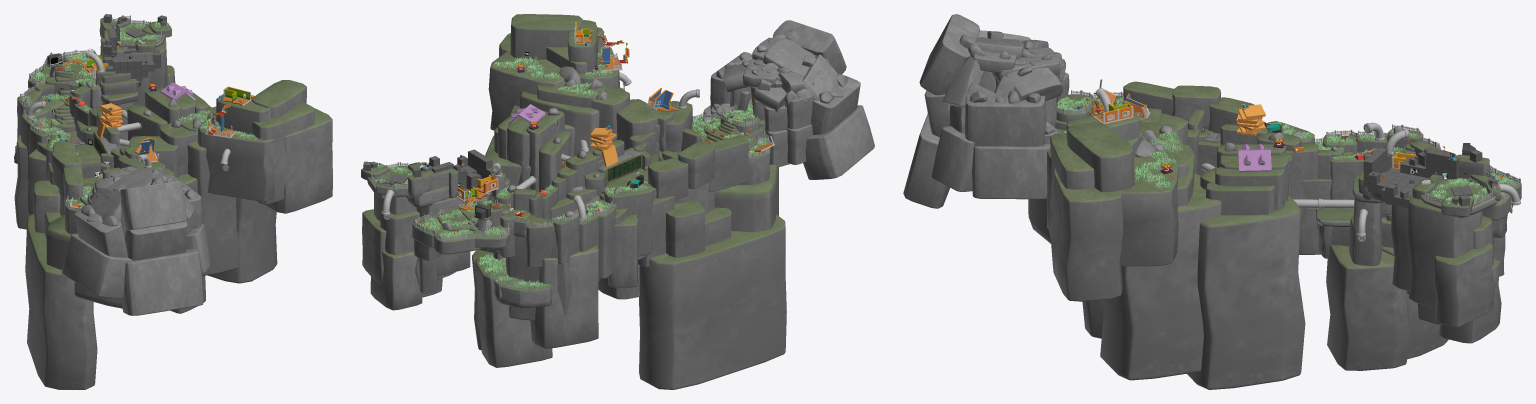
Rendered from l1-tutorial.glb.
3 renders of one model, left to right at view 1: azimuth 30°, elevation 25°; view 2: azimuth 150°, elevation 25°; view 3: azimuth 270°, elevation 25°, orthographic. The views are drawn at different scales.
Parts seen in each view (by area): view 1: NW_L1_Tutorial_Area_v6_Combined(Clone)/Challenge_Ground/Grou (×11), NW_L1_Tutorial_Area_v6_Combined(Clone)/Start_Ground/CaveBase (×9), NW_L1_Tutorial_Area_v6_Combined(Clone)/Start_Ground/Ground/G (×8), NW_L1_Tutorial_Area_v6_Combined(Clone)/A1_Ground/Ground/Grou (×10), NW_L1_Tutorial_Area_v6_Combined(Clone)/A3_Ground/Ground/Grou (×5), NW_L1_Tutorial_Area_v6_Combined(Clone)/A1_Ground/GroundBlock (×3), NW_L1_Tutorial_Area_v6_Combined(Clone)/Challenge_Assets/Doll, NW_L1_Tutorial_Area_v6_Combined(Clone)/Start_Assets/Dollhous, NW_L1_Tutorial_Area_v6_Combined(Clone)/A1_Assets/Dollhouse/D; view 2: NW_L1_Tutorial_Area_v6_Combined(Clone)/Start_Ground/Ground/G (×13), NW_L1_Tutorial_Area_v6_Combined(Clone)/A1_Ground/Ground/Grou (×15), NW_L1_Tutorial_Area_v6_Combined(Clone)/Start_Ground/CaveBase (×14), NW_L1_Tutorial_Area_v6_Combined(Clone)/Challenge_Ground/Grou (×9), NW_L1_Tutorial_Area_v6_Combined(Clone)/A3_Ground/Ground/Grou (×13), NW_L1_Tutorial_Area_v6_Combined(Clone)/A1_Ground/GroundBlock (×4), NW_L1_Tutorial_Area_v6_Combined(Clone)/Start_Assets/Dollhous, NW_L1_Tutorial_Area_v6_Combined(Clone)/A1_Assets/Blackboard/; view 3: NW_L1_Tutorial_Area_v6_Combined(Clone)/Challenge_Ground/Grou (×8), NW_L1_Tutorial_Area_v6_Combined(Clone)/A1_Ground/GroundBlock (×4), NW_L1_Tutorial_Area_v6_Combined(Clone)/Start_Ground/CaveBase (×11), NW_L1_Tutorial_Area_v6_Combined(Clone)/A3_Ground/Ground/Grou (×8), NW_L1_Tutorial_Area_v6_Combined(Clone)/A1_Ground/Ground/Grou (×8), NW_L1_Tutorial_Area_v6_Combined(Clone)/Start_Ground/Ground/G (×6), NW_L1_Tutorial_Area_v6_Combined(Clone)/A1_Assets/Dollhouse/D, NW_L1_Tutorial_Area_v6_Combined(Clone)/Challenge_Assets/Doll.
Boxes of the visible parts, bbox=[...] form: NW_L1_Tutorial_Area_v6_Combined(Clone)/Challenge_Ground/Grou (×11): bbox=[129, 80, 332, 313]; NW_L1_Tutorial_Area_v6_Combined(Clone)/Start_Ground/CaveBase (×9): bbox=[62, 168, 212, 315]; NW_L1_Tutorial_Area_v6_Combined(Clone)/Start_Ground/Ground/G (×8): bbox=[25, 149, 165, 389]; NW_L1_Tutorial_Area_v6_Combined(Clone)/A1_Ground/Ground/Grou (×10): bbox=[14, 79, 102, 229]; NW_L1_Tutorial_Area_v6_Combined(Clone)/A3_Ground/Ground/Grou (×5): bbox=[99, 23, 167, 106]; NW_L1_Tutorial_Area_v6_Combined(Clone)/A1_Ground/GroundBlock (×3): bbox=[127, 87, 196, 140]; NW_L1_Tutorial_Area_v6_Combined(Clone)/Challenge_Assets/Doll: bbox=[220, 86, 251, 106]; NW_L1_Tutorial_Area_v6_Combined(Clone)/Start_Assets/Dollhous: bbox=[135, 138, 158, 163]; NW_L1_Tutorial_Area_v6_Combined(Clone)/A1_Assets/Dollhouse/D: bbox=[160, 82, 196, 99]; NW_L1_Tutorial_Area_v6_Combined(Clone)/Start_Ground/Ground/G (×13): bbox=[639, 101, 786, 389]; NW_L1_Tutorial_Area_v6_Combined(Clone)/A1_Ground/Ground/Grou (×15): bbox=[472, 150, 674, 367]; NW_L1_Tutorial_Area_v6_Combined(Clone)/Start_Ground/CaveBase (×14): bbox=[710, 20, 874, 179]; NW_L1_Tutorial_Area_v6_Combined(Clone)/Challenge_Ground/Grou (×9): bbox=[488, 14, 657, 155]; NW_L1_Tutorial_Area_v6_Combined(Clone)/A3_Ground/Ground/Grou (×13): bbox=[362, 170, 515, 310]; NW_L1_Tutorial_Area_v6_Combined(Clone)/A1_Ground/GroundBlock (×4): bbox=[485, 110, 571, 192]; NW_L1_Tutorial_Area_v6_Combined(Clone)/Start_Assets/Dollhous: bbox=[647, 87, 677, 112]; NW_L1_Tutorial_Area_v6_Combined(Clone)/A1_Assets/Blackboard/: bbox=[607, 155, 641, 181]; NW_L1_Tutorial_Area_v6_Combined(Clone)/Challenge_Ground/Grou (×8): bbox=[1049, 111, 1221, 380]; NW_L1_Tutorial_Area_v6_Combined(Clone)/A1_Ground/GroundBlock (×4): bbox=[1187, 153, 1305, 389]; NW_L1_Tutorial_Area_v6_Combined(Clone)/Start_Ground/CaveBase (×11): bbox=[903, 14, 1063, 208]; NW_L1_Tutorial_Area_v6_Combined(Clone)/A3_Ground/Ground/Grou (×8): bbox=[1353, 154, 1502, 343]; NW_L1_Tutorial_Area_v6_Combined(Clone)/A1_Ground/Ground/Grou (×8): bbox=[1197, 124, 1448, 370]; NW_L1_Tutorial_Area_v6_Combined(Clone)/Start_Ground/Ground/G (×6): bbox=[1028, 81, 1254, 338]; NW_L1_Tutorial_Area_v6_Combined(Clone)/A1_Assets/Dollhouse/D: bbox=[1236, 143, 1271, 171]; NW_L1_Tutorial_Area_v6_Combined(Clone)/Challenge_Assets/Doll: bbox=[1093, 102, 1133, 124].
Size of what is drawn, in the model's own units: 146 by 122 by 211.
27 materials, 25 textured.
